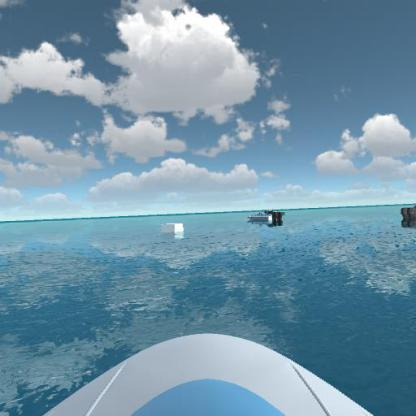usv0: (264, 204, 290, 216)
usv1: (246, 208, 284, 228)
